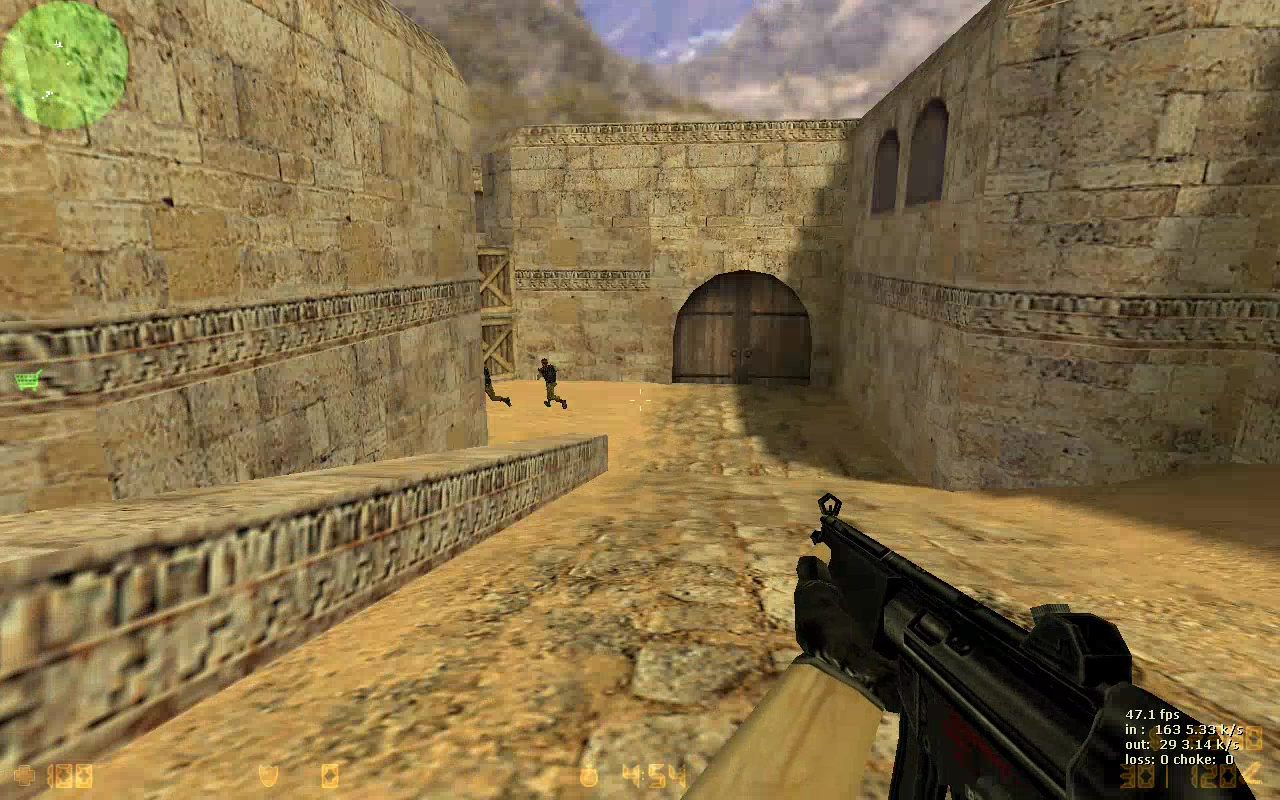terr1: (534, 360, 564, 405)
